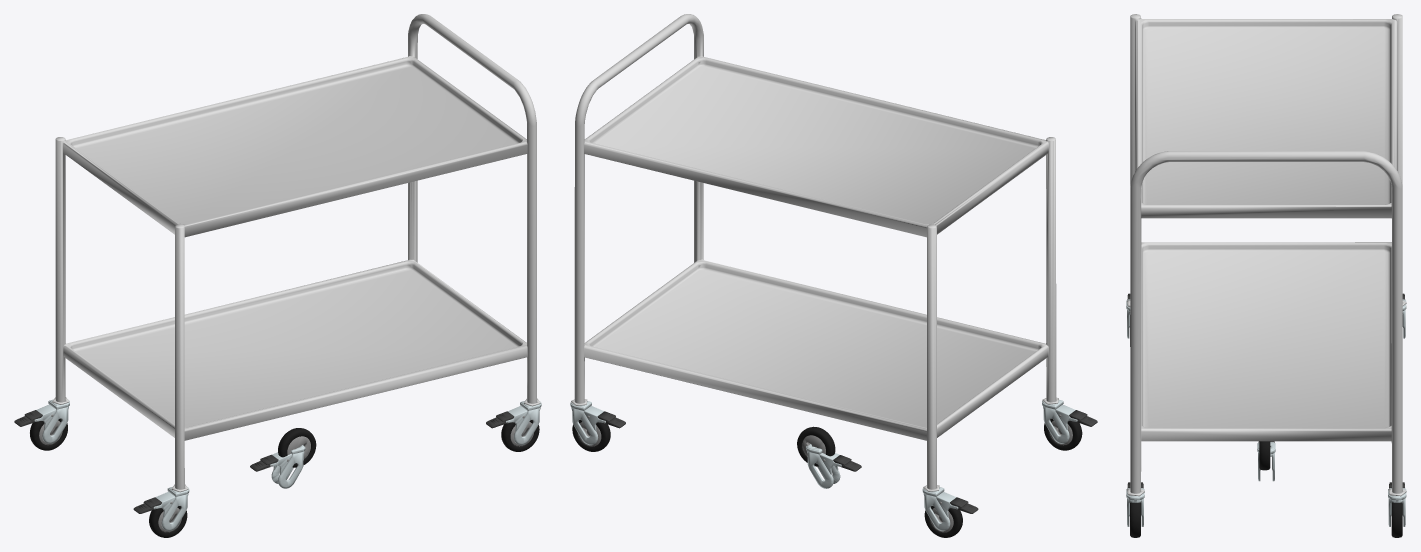
Rendered from trolley_instrument_b01.glb.
3 views of the same model, side by side, from view 1: azimuth 30°, elevation 25°; view 2: azimuth 150°, elevation 25°; view 3: azimuth 270°, elevation 25° (orthographic). The views are drawn at different scales.
Parts seen in each view (by area): view 1: body_01_mesh_00, wheel_04_mesh_00, wheel_03_mesh_00, wheel_02_mesh_00, wheel_01_mesh_00, tire_02_mesh_00, tire_04_mesh_00, tire_03_mesh_00; view 2: body_01_mesh_00, tire_01_mesh_00 (×2), wheel_03_mesh_00, wheel_01_mesh_00, wheel_04_mesh_00, wheel_02_mesh_00, tire_04_mesh_00, tire_03_mesh_00; view 3: body_01_mesh_00, tire_01_mesh_00, tire_02_mesh_00, wheel_01_mesh_00, wheel_02_mesh_00.
Boxes of the visible parts, bbox=[...] form: body_01_mesh_00: bbox=[52, 14, 540, 492]; wheel_04_mesh_00: bbox=[133, 487, 189, 531]; wheel_03_mesh_00: bbox=[14, 399, 69, 443]; wheel_02_mesh_00: bbox=[486, 401, 541, 445]; wheel_01_mesh_00: bbox=[250, 445, 305, 488]; tire_02_mesh_00: bbox=[501, 420, 539, 451]; tire_04_mesh_00: bbox=[149, 506, 187, 537]; tire_03_mesh_00: bbox=[30, 418, 67, 450]; body_01_mesh_00: bbox=[571, 14, 1058, 491]; tire_01_mesh_00 (×2): bbox=[572, 420, 829, 466]; wheel_03_mesh_00: bbox=[922, 487, 978, 531]; wheel_01_mesh_00: bbox=[570, 401, 625, 445]; wheel_04_mesh_00: bbox=[1042, 399, 1097, 443]; wheel_02_mesh_00: bbox=[806, 444, 861, 488]; tire_04_mesh_00: bbox=[1044, 418, 1082, 450]; tire_03_mesh_00: bbox=[924, 506, 962, 537]; body_01_mesh_00: bbox=[1127, 14, 1406, 496]; tire_01_mesh_00: bbox=[1391, 502, 1402, 537]; tire_02_mesh_00: bbox=[1130, 502, 1140, 537]; wheel_01_mesh_00: bbox=[1388, 482, 1406, 526]; wheel_02_mesh_00: bbox=[1126, 482, 1144, 526].
Bounding box in the file's own units: 1.06 × 0.9782 × 0.5784.
21 materials, 8 textured.
